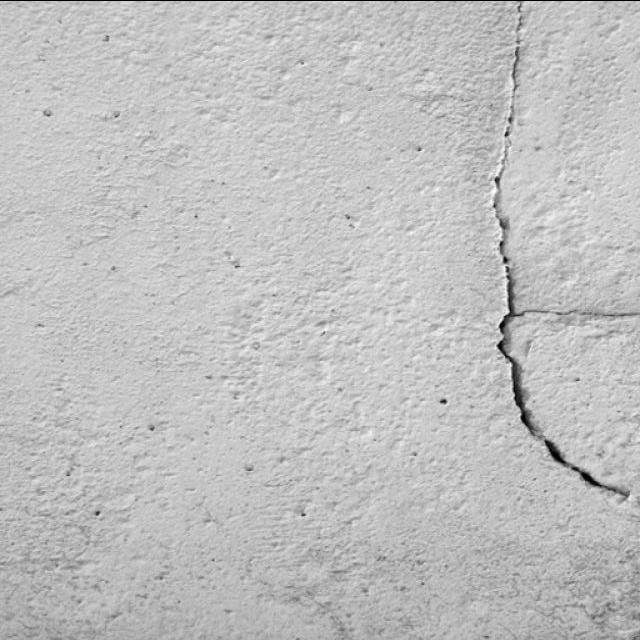SurfaceCrack: (465, 0, 635, 531)
